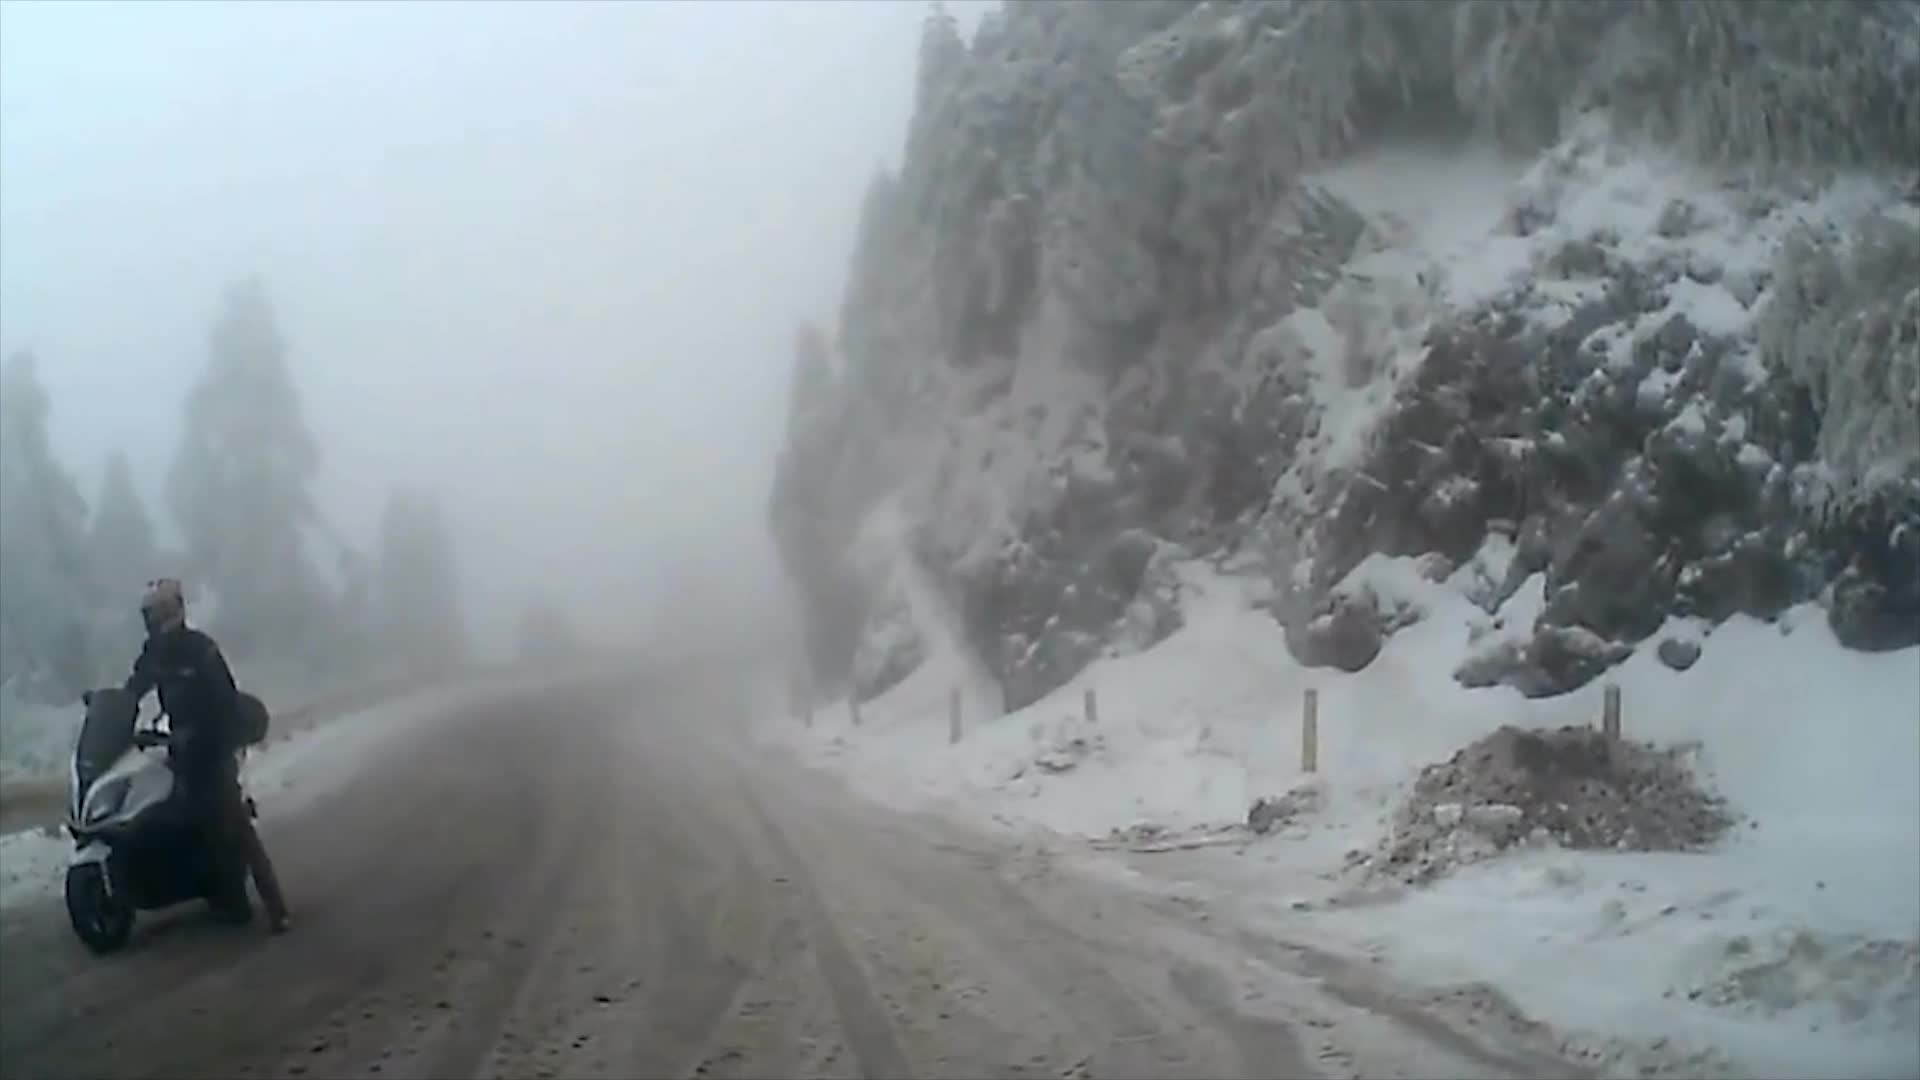pedestrian: (96, 567, 292, 934)
